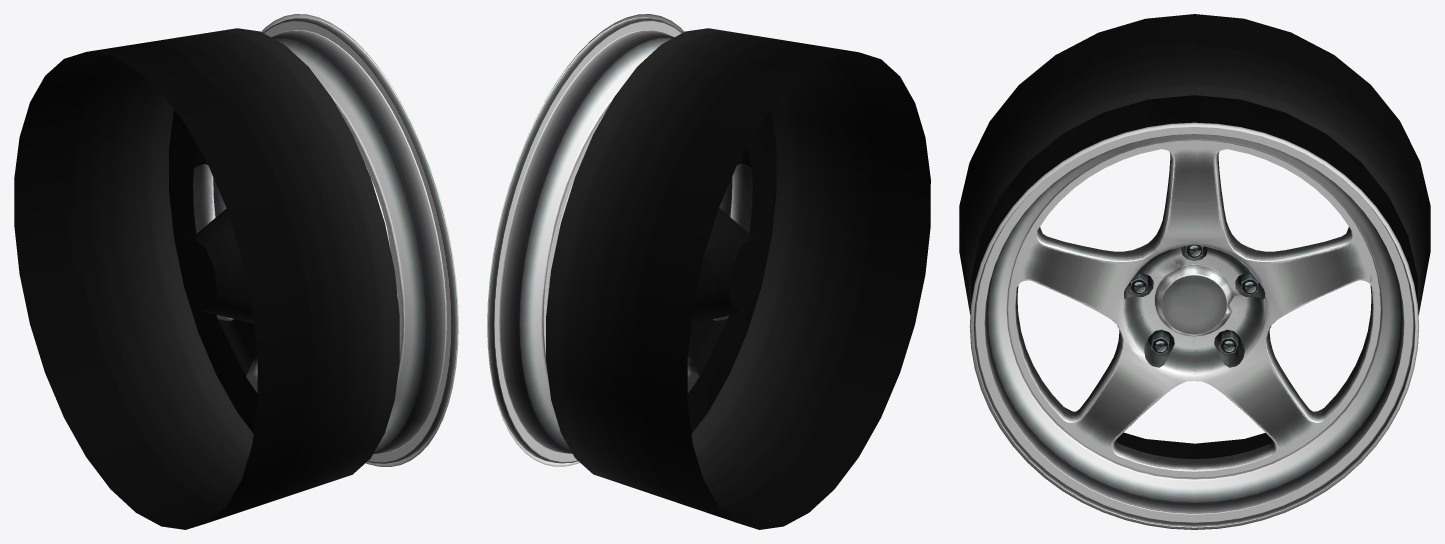
Rendered from wheel58.fbx.
3 views of the same model, side by side, from view 1: azimuth 30°, elevation 25°; view 2: azimuth 150°, elevation 25°; view 3: azimuth 270°, elevation 25° (orthographic). The views are drawn at different scales.
Visible parts, largest first — view 1: fik_profil5_wheel_wheel_inner_rim_, wheel_rim, fik_profil5_wheel_wheel_rim_; view 2: fik_profil5_wheel_wheel_inner_rim_, wheel_rim, fik_profil5_wheel_wheel_rim_; view 3: fik_profil5_wheel_wheel_inner_rim_, wheel_rim, fik_profil5_wheel_wheel_rim_.
Part boxes in pixels (x1,y1,x2,y2): fik_profil5_wheel_wheel_inner_rim_: [14, 28, 399, 529]; wheel_rim: [213, 14, 458, 466]; fik_profil5_wheel_wheel_rim_: [193, 110, 402, 392]; fik_profil5_wheel_wheel_inner_rim_: [546, 28, 930, 529]; wheel_rim: [487, 14, 732, 466]; fik_profil5_wheel_wheel_rim_: [544, 151, 752, 392]; fik_profil5_wheel_wheel_inner_rim_: [959, 14, 1430, 459]; wheel_rim: [969, 122, 1419, 529]; fik_profil5_wheel_wheel_rim_: [1008, 140, 1378, 477].
Size of the model in its own units: 0.2362 by 0.4805 by 0.4779.
Materials: 1 (1 with a texture image).
